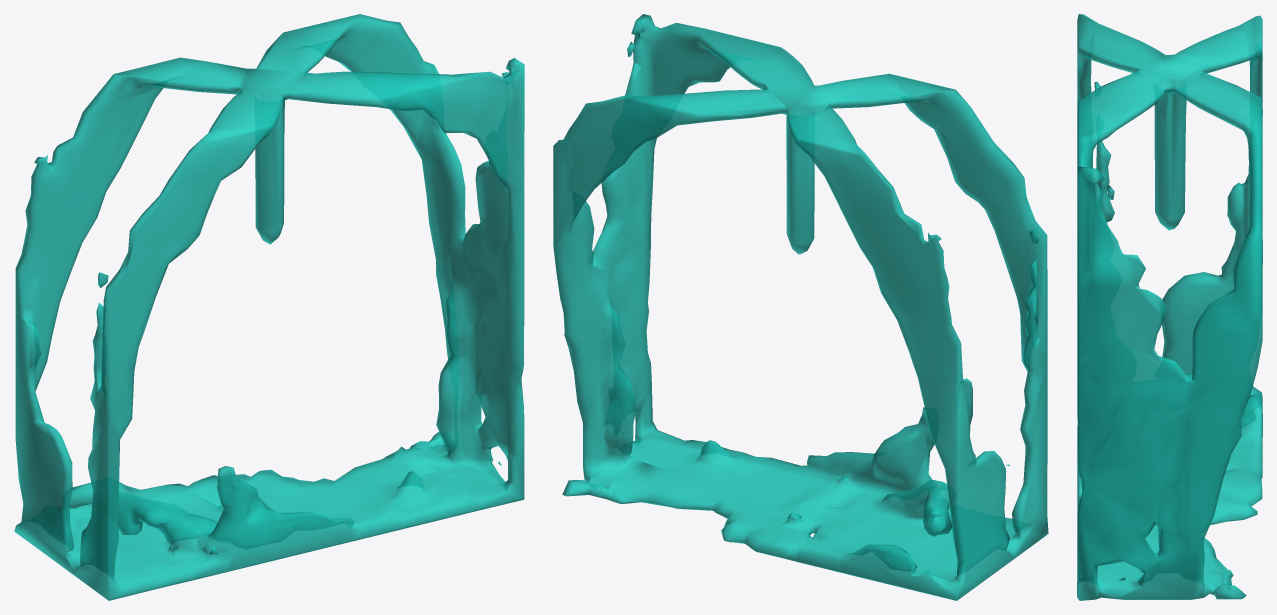
The picture shows the model from 3 angles, left to right: view 1: azimuth 30°, elevation 25°; view 2: azimuth 150°, elevation 25°; view 3: azimuth 270°, elevation 25°; orthographic projection. The views are drawn at different scales.
Visible parts, largest first — view 1: Liquid_Domain; view 2: Liquid_Domain; view 3: Liquid_Domain.
Boxes of the visible parts, bbox=[...] form: Liquid_Domain: bbox=[14, 14, 524, 600]; Liquid_Domain: bbox=[553, 14, 1048, 600]; Liquid_Domain: bbox=[1077, 14, 1262, 600].
Size of the model in its own units: 884 by 884 by 345.
